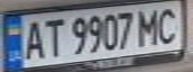0: (103, 10, 121, 52)
7: (115, 8, 139, 50)
9: (84, 11, 106, 54), (66, 12, 87, 56)
A: (18, 17, 45, 61)
C: (154, 3, 184, 44)
M: (136, 6, 163, 47)
T: (39, 16, 66, 58)
